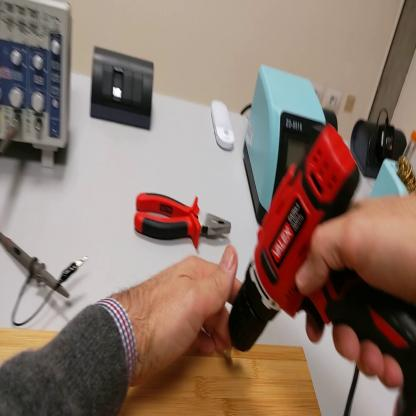electric screwdriver: (220, 126, 416, 415)
hand: (294, 189, 416, 395), (120, 247, 243, 375)
oscilloscope: (2, 2, 74, 168)
oscilloscope probe tip: (1, 233, 73, 299)
pliers: (135, 193, 234, 256)
socket: (353, 112, 408, 179), (323, 111, 340, 130)
welder base: (369, 126, 415, 198)
welder station: (241, 62, 327, 227)
working area: (1, 327, 322, 414)
